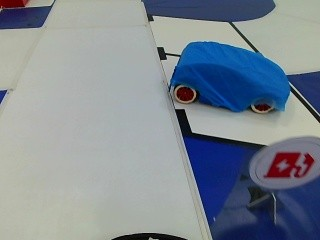battery: (260, 142, 316, 186)
car: (167, 33, 291, 114)
